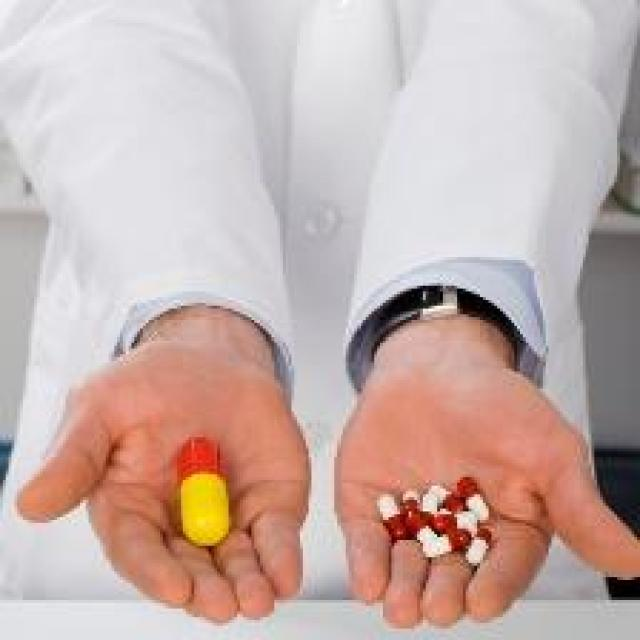Medicine: (90, 314, 562, 640)
